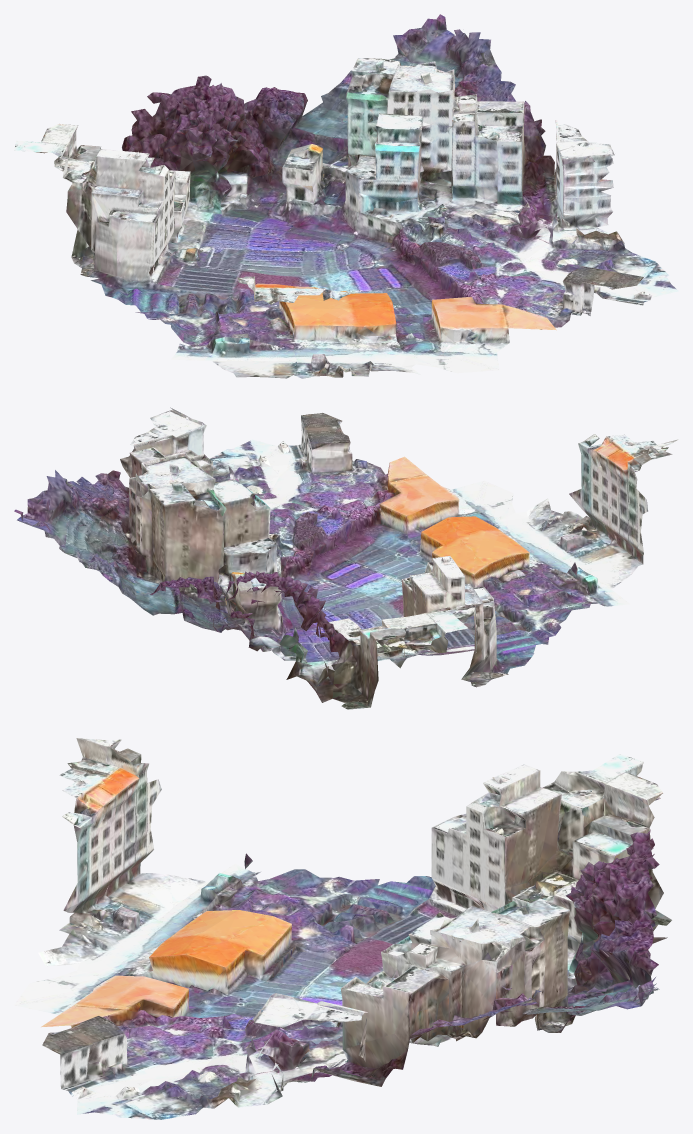
Rendered from Tile_+011_+019_L18_00000.glb.
3 views of the same model, one above another, from view 1: azimuth 30°, elevation 25°; view 2: azimuth 150°, elevation 25°; view 3: azimuth 270°, elevation 25° (orthographic). The views are drawn at different scales.
Parts seen in each view (by area): view 1: rtc; view 2: rtc; view 3: rtc.
Boxes of the visible parts, <box> form: rtc: <box>14,14,678,378</box>; rtc: <box>14,407,678,709</box>; rtc: <box>14,738,671,1119</box>.
Size of the model in its own units: 113 by 32.89 by 117.
Materials: 1 (1 with a texture image).
